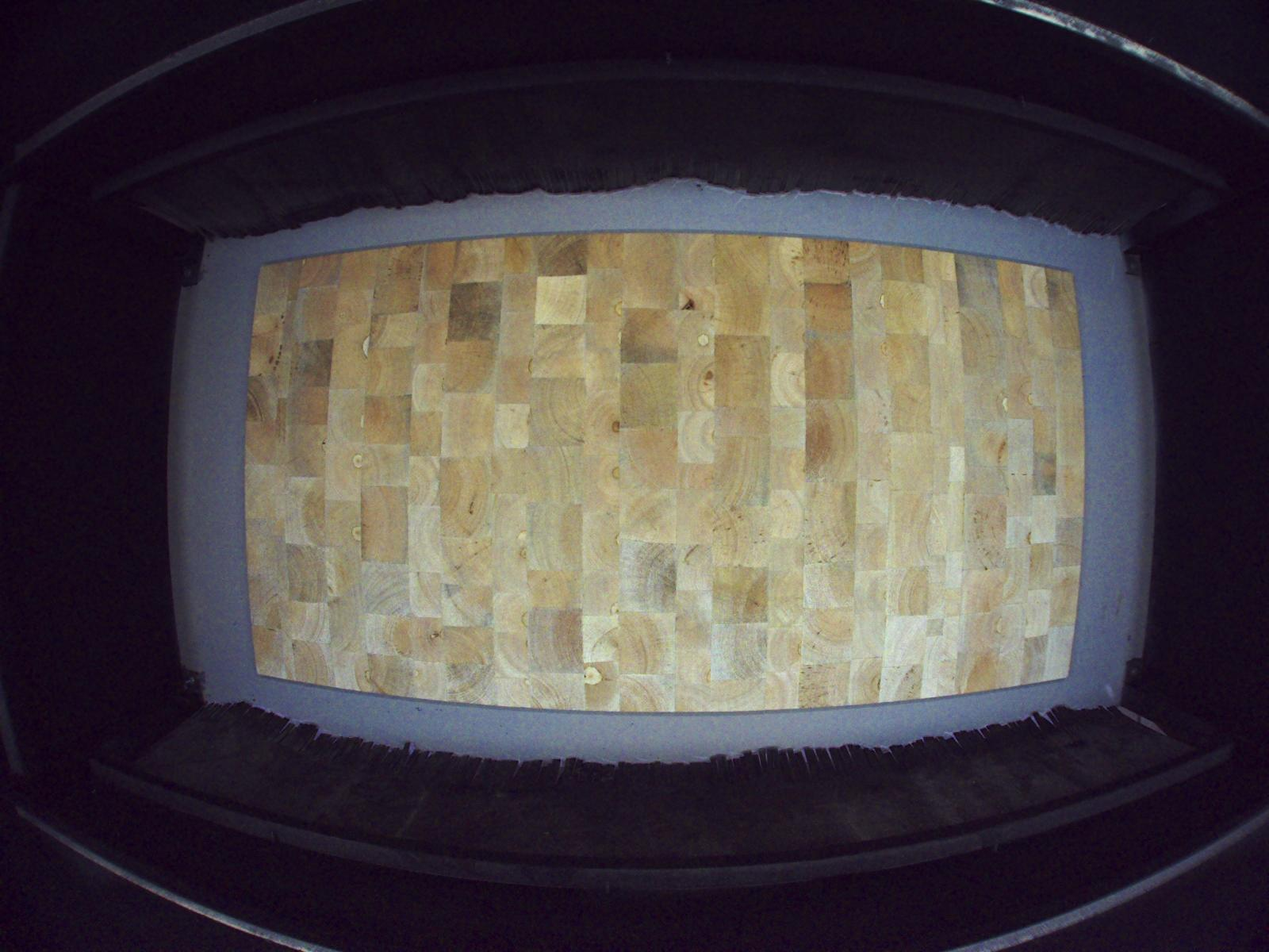sheck_ecuatoriano: (679, 289, 697, 312)
